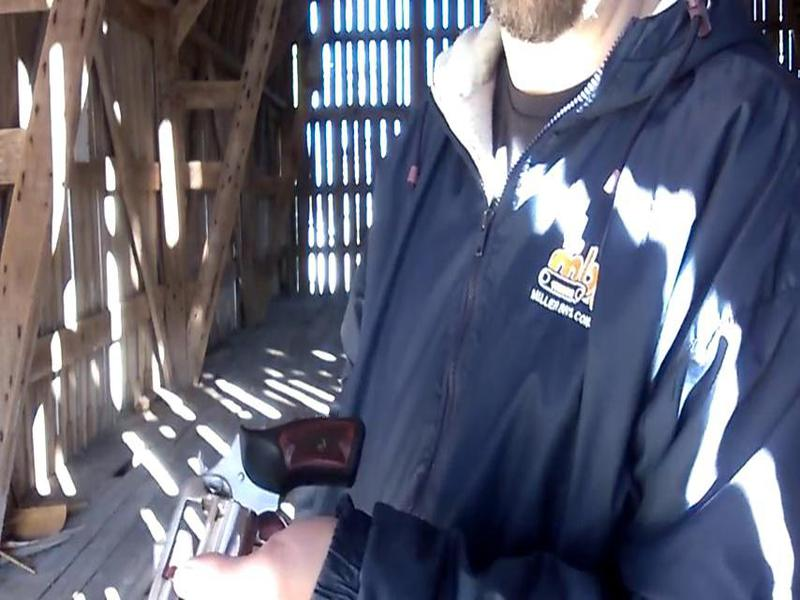Revolver: (144, 396, 375, 600)
